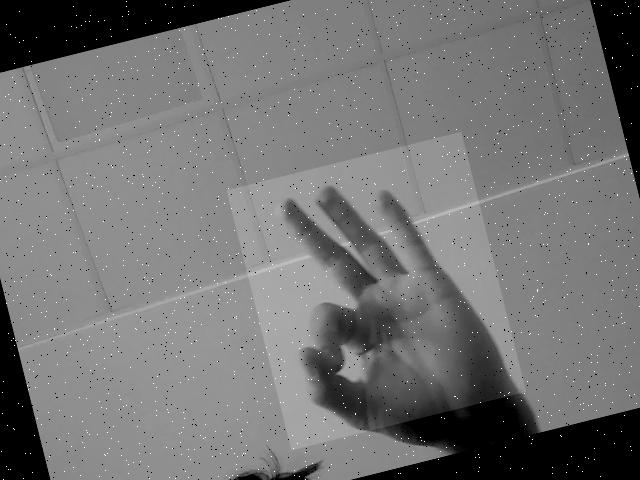OK: (226, 132, 526, 450)
